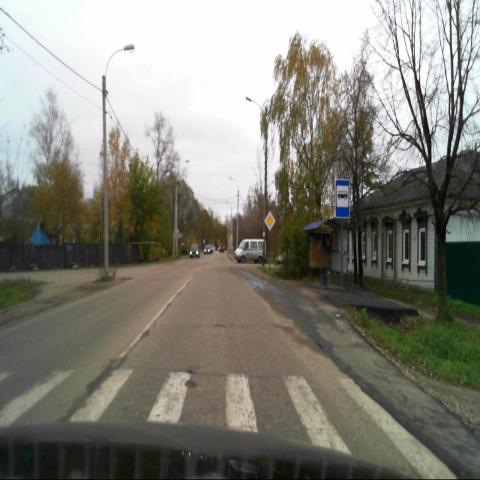2_1: (264, 211, 275, 231)
5_16: (335, 179, 350, 219)
